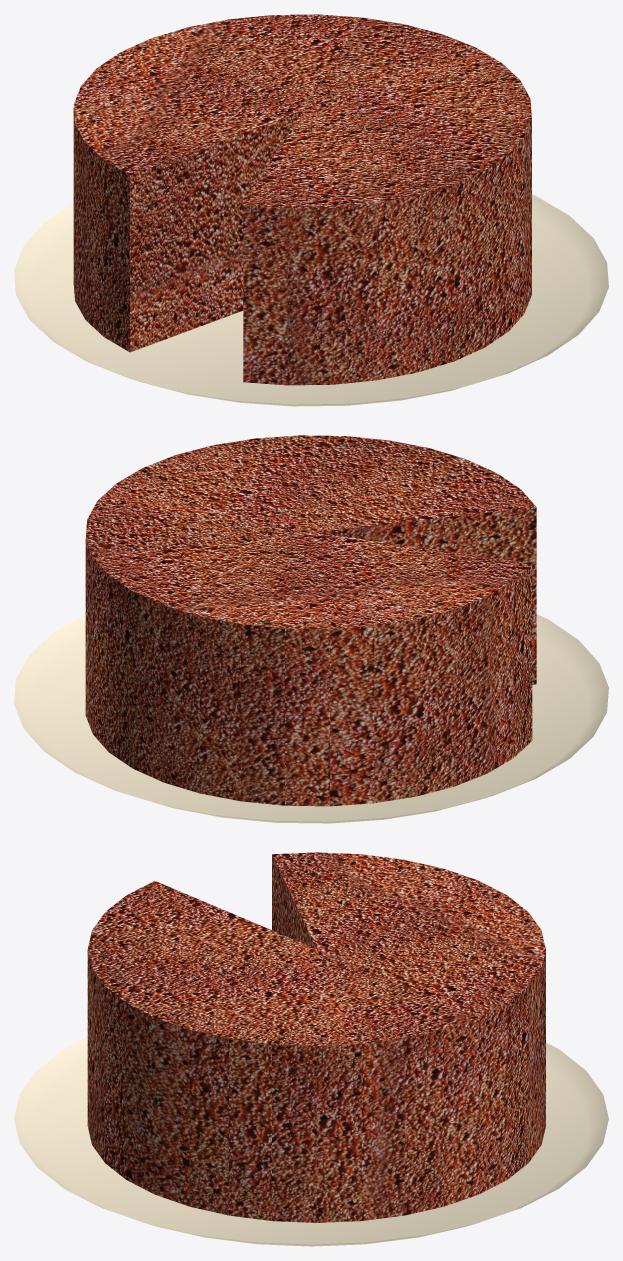
The model's file is CakePlate.fbx.
3 renders of one model, top to bottom at view 1: azimuth 30°, elevation 25°; view 2: azimuth 150°, elevation 25°; view 3: azimuth 270°, elevation 25°, orthographic.
Visible parts, largest first — view 1: Cylinder, Cylinder.001; view 2: Cylinder, Cylinder.001; view 3: Cylinder, Cylinder.001.
Part boxes in pixels (box(x1,y1,x2,y2)): Cylinder: box(73, 14, 531, 385); Cylinder.001: box(14, 194, 608, 406); Cylinder: box(85, 435, 536, 806); Cylinder.001: box(14, 614, 608, 823); Cylinder: box(87, 852, 545, 1222); Cylinder.001: box(14, 1037, 608, 1246).
Size of the model in its own units: 3.99 by 1.31 by 3.99.
